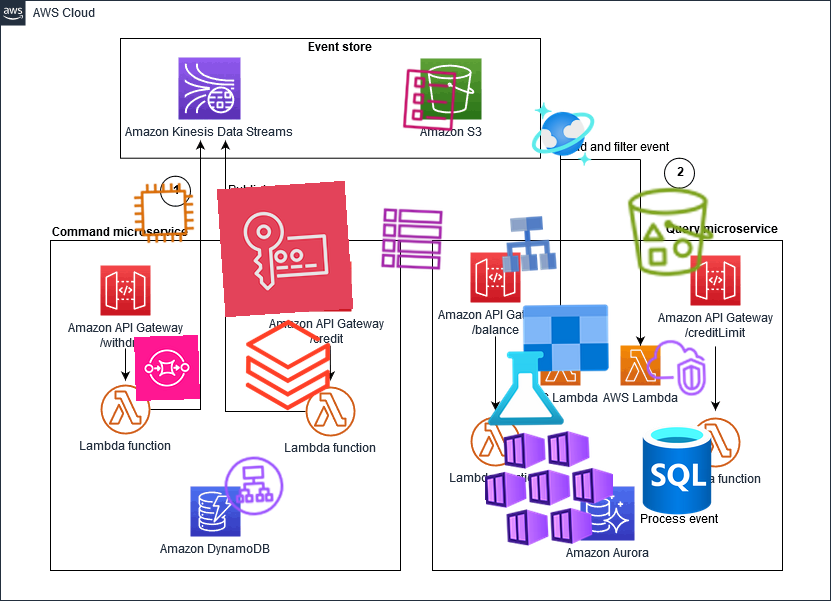aws_amazon_simple_queue_service: (134, 335, 200, 401)
aws_cloudformation_template: (394, 65, 464, 135)
aws_dynamodb_table: (378, 205, 446, 273)
aws_ec2_instance: (131, 180, 197, 246)
aws_elastic_load_balancing_application_load_balancer: (220, 452, 288, 520)
aws_key_management_service: (216, 180, 354, 318)
aws_simple_storage_service_bucket_with_objects: (621, 182, 721, 282)
aws_vpc_virtual_private_cloud_vpc: (643, 335, 709, 401)
azure_cosmos_db: (528, 99, 598, 169)
azure_databricks: (239, 316, 337, 414)
azure_kubernetes_services: (482, 420, 616, 554)
azure_machine_learning_studio_workspaces: (483, 300, 613, 430)
azure_sql_database: (628, 420, 726, 518)
gcp_cloud_load_balancing: (493, 209, 563, 279)
